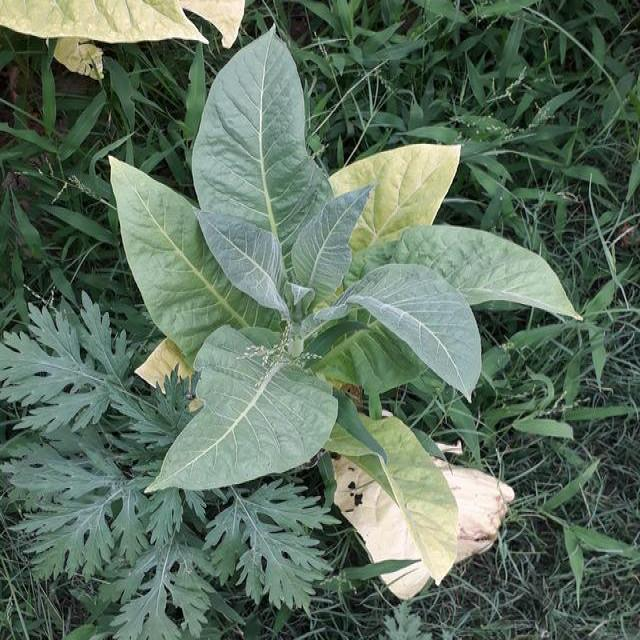crop: (110, 29, 584, 496)
